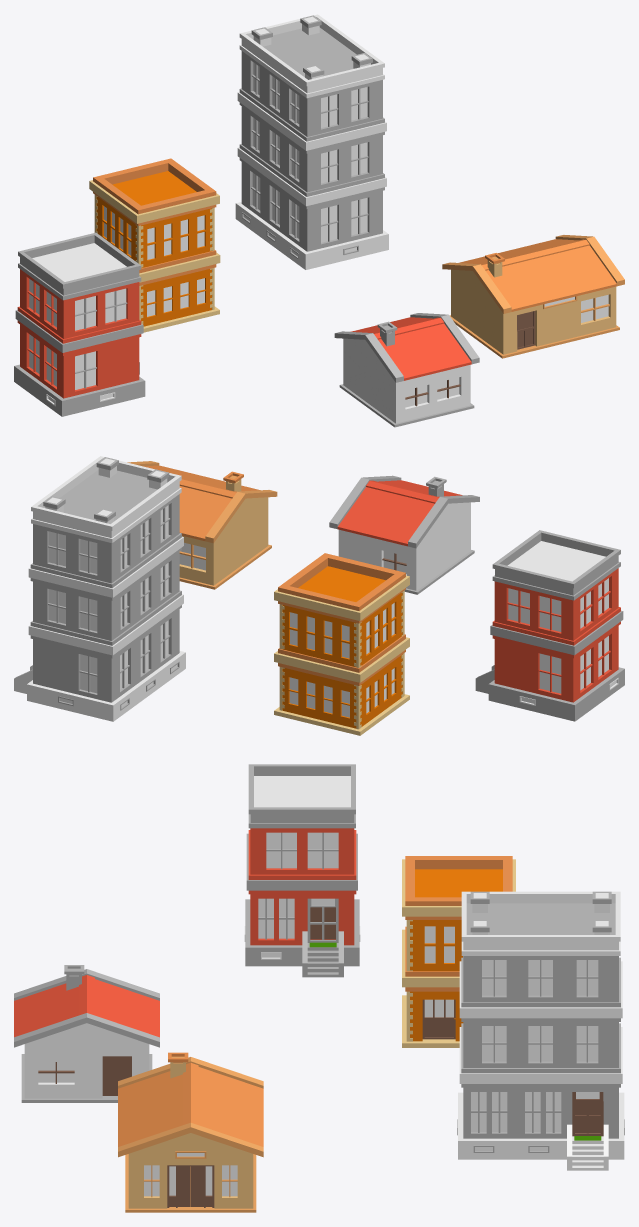
Rendered from house5.glb.
The picture shows the model from 3 angles, top to bottom: view 1: azimuth 30°, elevation 25°; view 2: azimuth 150°, elevation 25°; view 3: azimuth 270°, elevation 25°; orthographic projection. The views are drawn at different scales.
Visible parts, largest first — view 1: Building_04, Building_03, Building_05, Building_01, Building_02; view 2: Building_04, Building_03, Building_01, Building_02, Building_05; view 3: Building_04, Building_03, Building_05, Building_02, Building_01.
Part boxes in pixels (x1=…): Building_04: x1=235, y1=14, x2=388, y2=269; Building_03: x1=14, y1=232, x2=145, y2=416; Building_05: x1=442, y1=235, x2=624, y2=358; Building_01: x1=89, y1=158, x2=220, y2=332; Building_02: x1=334, y1=313, x2=479, y2=427; Building_04: x1=14, y1=456, x2=185, y2=721; Building_03: x1=475, y1=530, x2=624, y2=721; Building_01: x1=274, y1=553, x2=409, y2=735; Building_02: x1=329, y1=475, x2=479, y2=594; Building_05: x1=127, y1=461, x2=277, y2=589; Building_04: x1=457, y1=891, x2=624, y2=1170; Building_03: x1=244, y1=764, x2=360, y2=977; Building_05: x1=118, y1=1052, x2=263, y2=1212; Building_02: x1=14, y1=965, x2=159, y2=1102; Building_01: x1=402, y1=856, x2=515, y2=1047.
Size of the model in its own units: 13.48 by 4.8 by 11.76.
